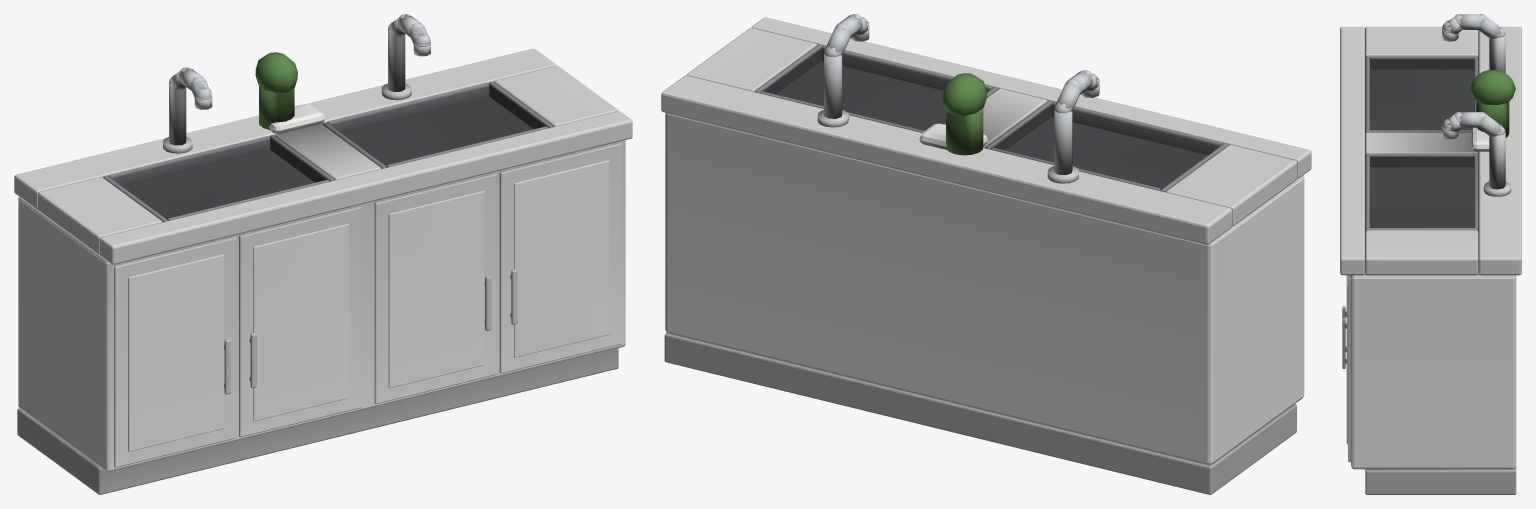
File: counterSinkDouble.glb
The picture shows the model from 3 angles, left to right: view 1: azimuth 30°, elevation 25°; view 2: azimuth 150°, elevation 25°; view 3: azimuth 270°, elevation 25°; orthographic projection. The views are drawn at different scales.
Parts seen in each view (by area): view 1: body; view 2: body; view 3: body.
Boxes of the visible parts, box(x1,y1,x2,y2) form: body: box(14, 14, 632, 494); body: box(661, 14, 1311, 494); body: box(1340, 14, 1521, 494).
Bounding box in the file's own units: 2 × 1.26 × 0.66.
